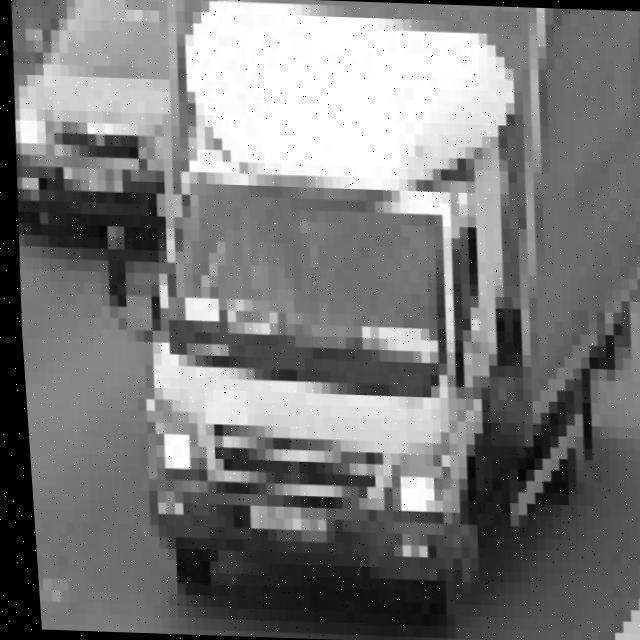truck: (77, 118, 545, 608)
